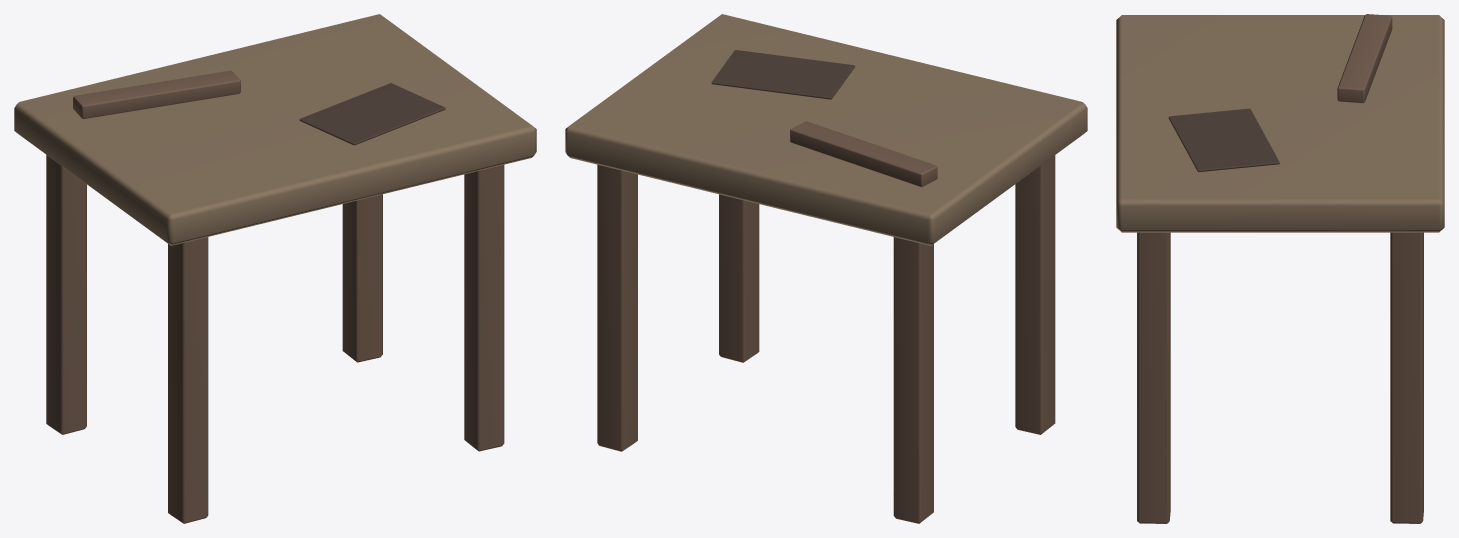
File: prop_kitchen_table_old_01.glb
3 views of the same model, side by side, from view 1: azimuth 30°, elevation 25°; view 2: azimuth 150°, elevation 25°; view 3: azimuth 270°, elevation 25° (orthographic). The views are drawn at different scales.
Parts seen in each view (by area): view 1: table_top_old.001, table_leg_01.001, table_leg_02.001, table_leg_03.001, table_leg_04.001, table_dark_stain.001, table_small_plank.001; view 2: table_top_old.001, table_leg_03.001, table_leg_04.001, table_leg_01.001, table_leg_02.001, table_dark_stain.001, table_small_plank.001; view 3: table_top_old.001, table_leg_04.001, table_leg_02.001, table_dark_stain.001, table_small_plank.001.
Part boxes in pixels (x1,y1,x2,y2): table_top_old.001: [14, 14, 536, 245]; table_leg_01.001: [168, 237, 208, 523]; table_leg_02.001: [464, 165, 504, 451]; table_leg_03.001: [46, 155, 86, 434]; table_leg_04.001: [342, 194, 382, 362]; table_dark_stain.001: [299, 83, 445, 145]; table_small_plank.001: [73, 70, 240, 119]; table_top_old.001: [565, 14, 1087, 245]; table_leg_03.001: [893, 237, 933, 523]; table_leg_04.001: [597, 164, 637, 451]; table_leg_01.001: [1015, 155, 1055, 434]; table_leg_02.001: [719, 194, 759, 362]; table_dark_stain.001: [711, 50, 855, 99]; table_small_plank.001: [790, 121, 937, 187]; table_top_old.001: [1116, 15, 1444, 232]; table_leg_04.001: [1390, 232, 1423, 523]; table_leg_02.001: [1137, 232, 1170, 523]; table_dark_stain.001: [1168, 108, 1279, 172]; table_small_plank.001: [1337, 14, 1392, 103].
Bounding box in the file's own units: 0.95 × 0.8275 × 0.7.
